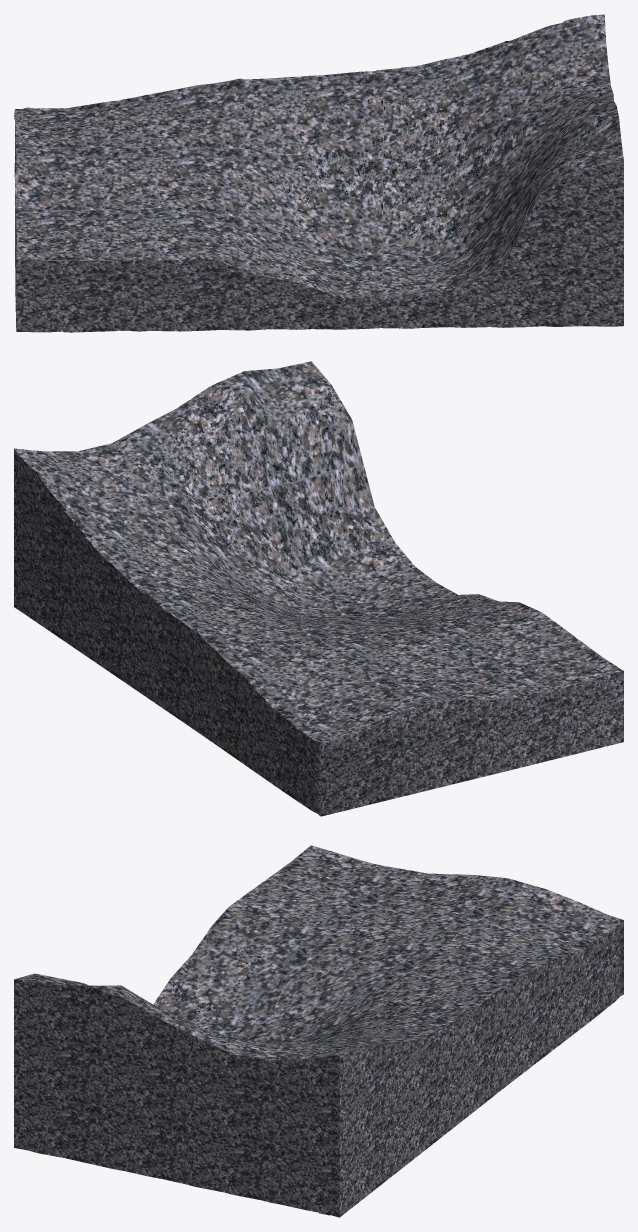
The picture shows the model from 3 angles, top to bottom: view 1: azimuth 30°, elevation 25°; view 2: azimuth 150°, elevation 25°; view 3: azimuth 270°, elevation 25°; orthographic projection. The views are drawn at different scales.
Visible parts, largest first — view 1: JD; view 2: JD; view 3: JD.
Boxes of the visible parts, left/top/right/bottom form: JD: left=14, top=14, right=623, bottom=332; JD: left=14, top=361, right=623, bottom=816; JD: left=14, top=845, right=623, bottom=1217.
Bounding box in the file's own units: 1718 × 476 × 1480.
Materials: 1 (1 with a texture image).
